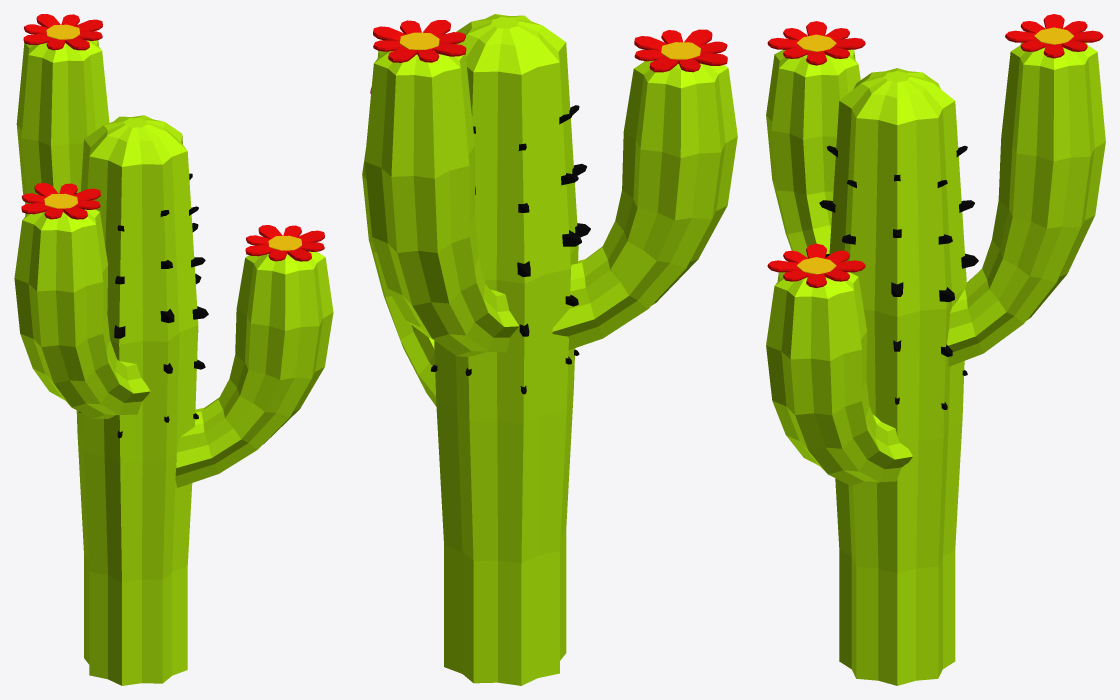
File: Cardon02_03Brazos_Flor_Roja.fbx
3 renders of one model, left to right at view 1: azimuth 30°, elevation 25°; view 2: azimuth 150°, elevation 25°; view 3: azimuth 270°, elevation 25°, orthographic. The views are drawn at different scales.
Parts seen in each view (by area): view 1: Cactus, Flor_Roja, Espinas; view 2: Cactus, Flor_Roja, Espinas; view 3: Cactus, Flor_Roja, Espinas.
Boxes of the visible parts, x1,y1,x2,y2 form: Cactus: (14, 40, 333, 685); Flor_Roja: (21, 14, 324, 261); Espinas: (75, 173, 208, 438); Cactus: (362, 14, 737, 685); Flor_Roja: (370, 20, 727, 93); Espinas: (430, 105, 590, 394); Cactus: (766, 42, 1105, 685); Flor_Roja: (767, 14, 1103, 287); Espinas: (819, 145, 978, 409).
Size of the model in its own units: 124 by 226 by 111.
